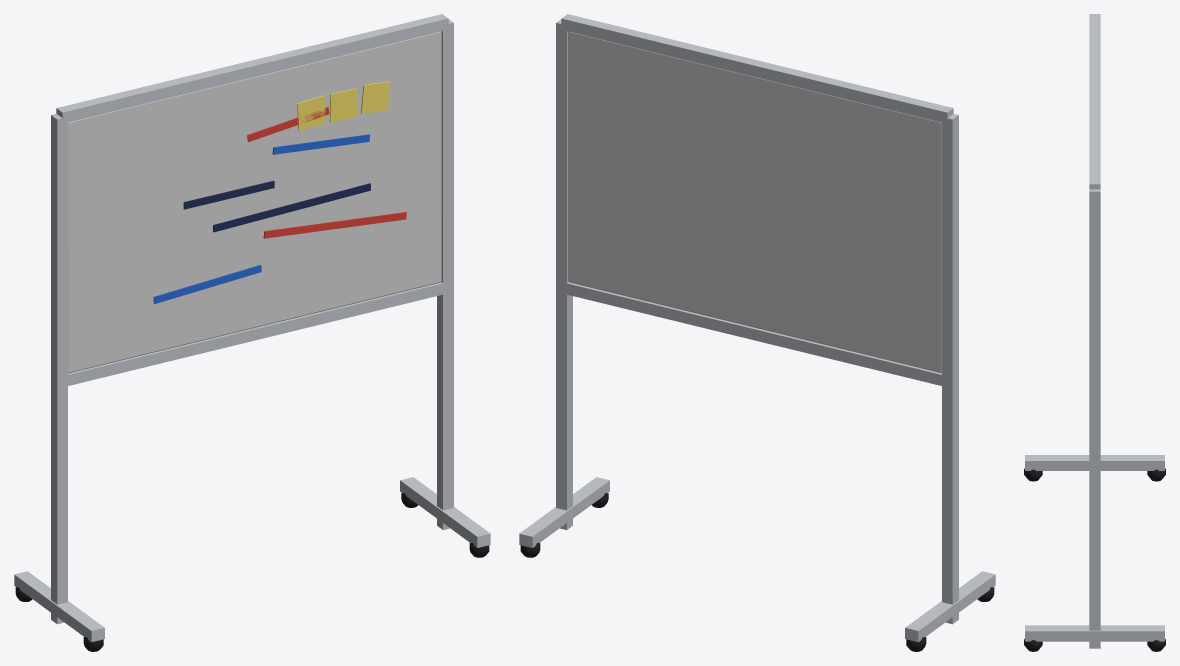
The model's file is MobileWhiteboard.fbx.
3 views of the same model, side by side, from view 1: azimuth 30°, elevation 25°; view 2: azimuth 150°, elevation 25°; view 3: azimuth 270°, elevation 25° (orthographic). The views are drawn at different scales.
Parts seen in each view (by area): view 1: MobileWhiteboardBody; view 2: MobileWhiteboardBody; view 3: MobileWhiteboardBody.
Boxes of the visible parts, left/top/right/bottom form: MobileWhiteboardBody: left=14, top=14, right=490, bottom=651; MobileWhiteboardBody: left=519, top=14, right=995, bottom=651; MobileWhiteboardBody: left=1024, top=14, right=1165, bottom=651.
Bounding box in the file's own units: 1.51 × 1.84 × 0.5066.
